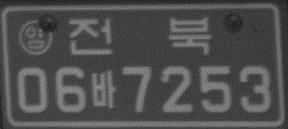0: (16, 65, 48, 114)
2: (160, 64, 193, 113)
3: (239, 64, 272, 113)
5: (198, 64, 232, 113)
6: (54, 65, 87, 114)
7: (121, 64, 153, 113)
바: (91, 70, 117, 110)
영: (16, 18, 53, 56)
전북_D: (68, 16, 212, 56)
